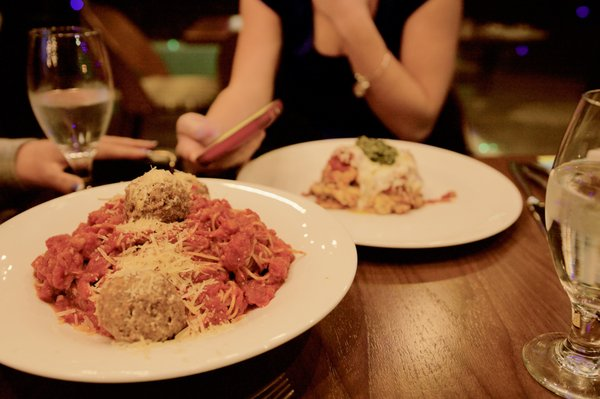pizza: (520, 89, 600, 397)
